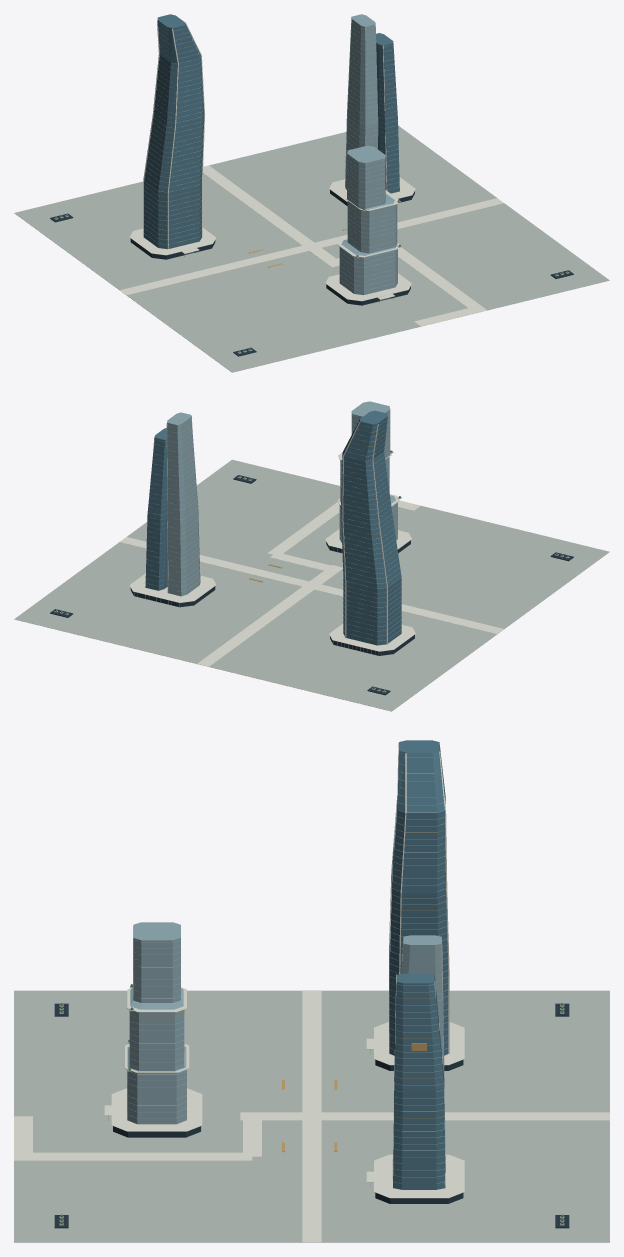
File: center.glb
3 renders of one model, top to bottom at view 1: azimuth 30°, elevation 25°; view 2: azimuth 150°, elevation 25°; view 3: azimuth 270°, elevation 25°, orthographic. The views are drawn at different scales.
Visible parts, largest first — view 1: GC-SUBCENTER-001-stone, GC-SUBCENTER-001-blue, GC-SUBCENTER-001-glass, GC-SUBCENTER-001-ivory, GC-SUBCENTER-001-silver, GC-SUBCENTER-001-dark, GC-SUBCENTER-001-gold; view 2: GC-SUBCENTER-001-stone, GC-SUBCENTER-001-blue, GC-SUBCENTER-001-ivory, GC-SUBCENTER-001-glass, GC-SUBCENTER-001-silver, GC-SUBCENTER-001-dark, GC-SUBCENTER-001-gold; view 3: GC-SUBCENTER-001-stone, GC-SUBCENTER-001-blue, GC-SUBCENTER-001-ivory, GC-SUBCENTER-001-glass, GC-SUBCENTER-001-silver, GC-SUBCENTER-001-dark, GC-SUBCENTER-001-gold.
Part boxes in pixels (<box>): GC-SUBCENTER-001-stone: <box>14,126,609,372</box>; GC-SUBCENTER-001-blue: <box>144,14,399,300</box>; GC-SUBCENTER-001-glass: <box>339,14,397,294</box>; GC-SUBCENTER-001-ivory: <box>120,20,503,326</box>; GC-SUBCENTER-001-silver: <box>144,23,399,302</box>; GC-SUBCENTER-001-dark: <box>50,190,573,356</box>; GC-SUBCENTER-001-gold: <box>144,21,398,300</box>; GC-SUBCENTER-001-stone: <box>14,452,609,711</box>; GC-SUBCENTER-001-blue: <box>145,410,401,645</box>; GC-SUBCENTER-001-ivory: <box>120,414,503,666</box>; GC-SUBCENTER-001-glass: <box>167,401,397,596</box>; GC-SUBCENTER-001-silver: <box>134,411,401,655</box>; GC-SUBCENTER-001-dark: <box>50,475,573,695</box>; GC-SUBCENTER-001-gold: <box>147,421,400,621</box>; GC-SUBCENTER-001-stone: <box>14,985,609,1242</box>; GC-SUBCENTER-001-blue: <box>389,740,448,1189</box>; GC-SUBCENTER-001-ivory: <box>14,742,609,1242</box>; GC-SUBCENTER-001-glass: <box>127,922,444,1124</box>; GC-SUBCENTER-001-silver: <box>108,747,463,1197</box>; GC-SUBCENTER-001-dark: <box>54,1003,569,1228</box>; GC-SUBCENTER-001-gold: <box>127,787,448,1157</box>.
Size of the model in its own units: 500 by 280 by 500.
